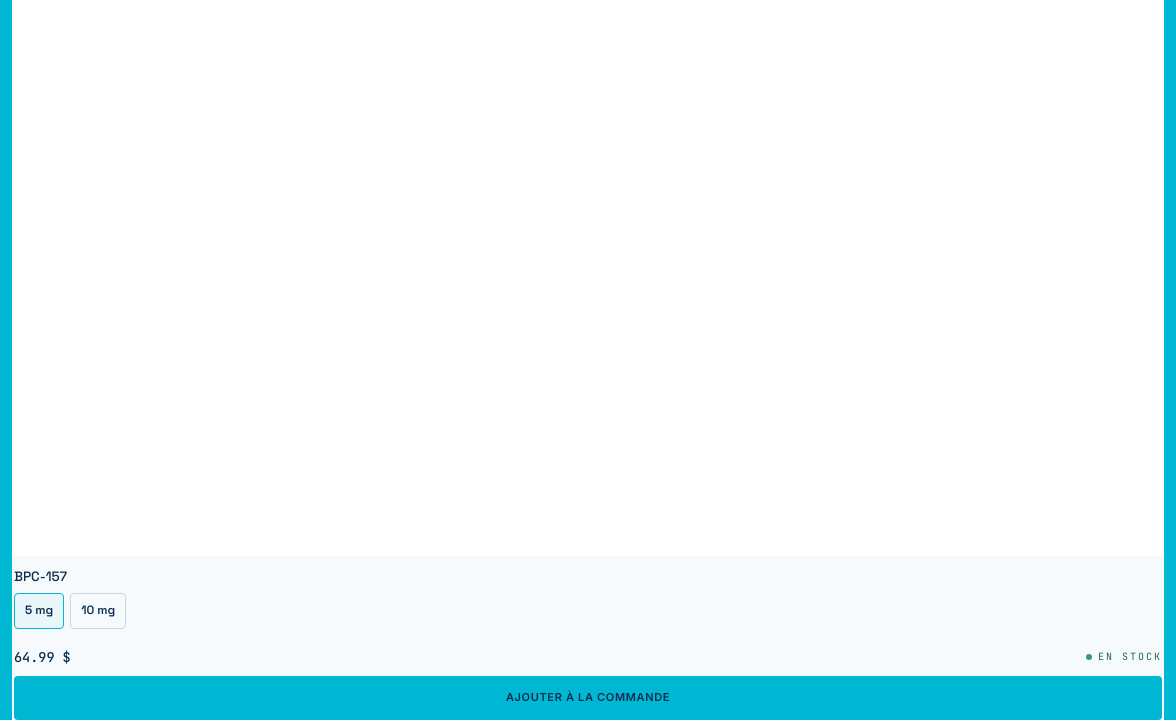
le prix suit la sélection › et on peut revenir
(page scrolled)
Click the button "10 mg" at [98, 611], box [70,593,126,629]
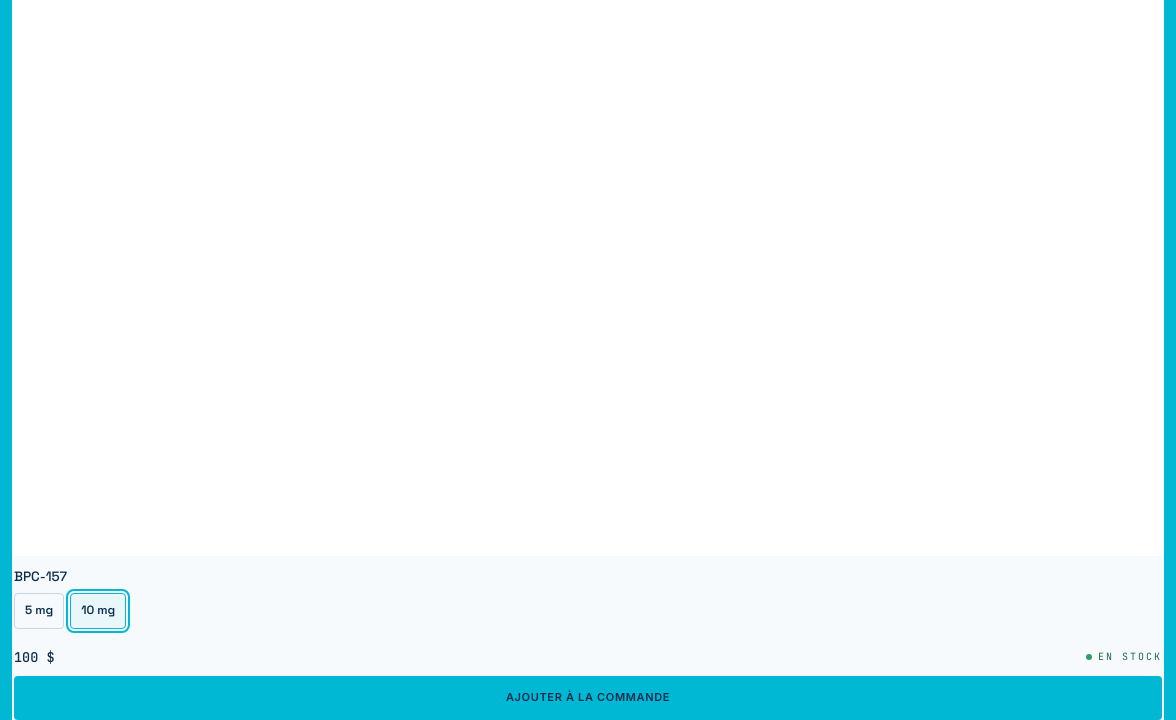
Click the button "5 mg" at [39, 611], box [14,593,64,629]
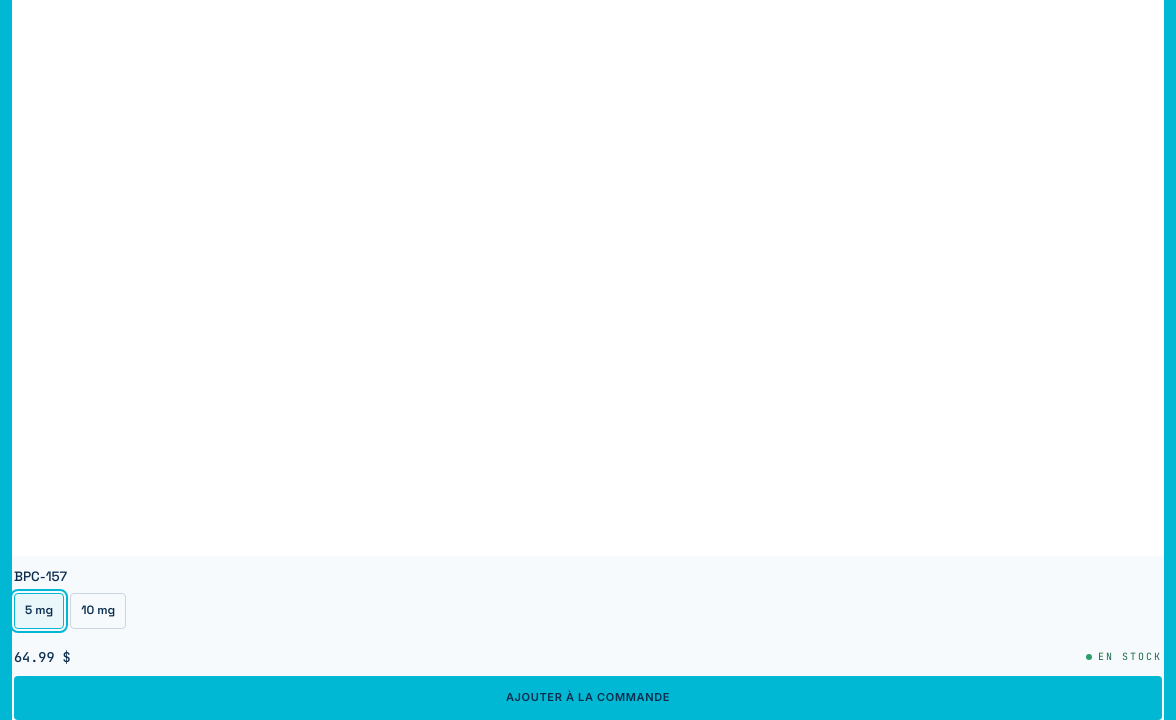
Now the text with test id "card-price-bpc-157" shows "64.99", box [14,648,71,666]
